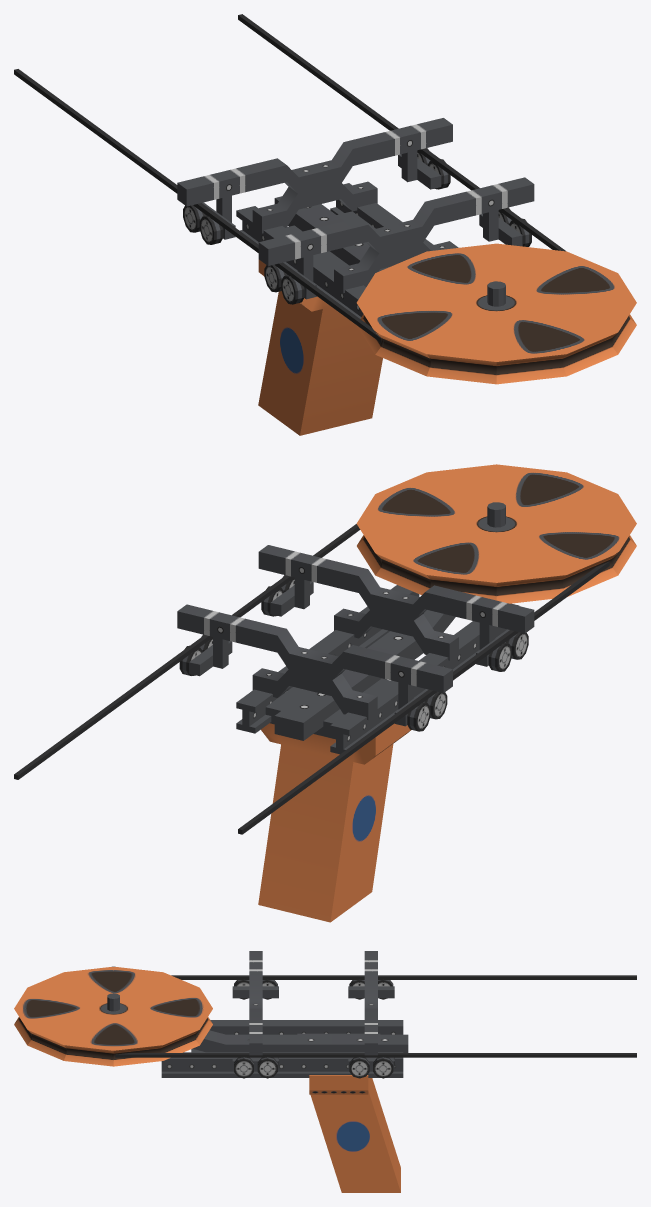
The model's file is 2b008067-feab-4baf-ab91-af9fad7e5dec.glb.
The picture shows the model from 3 angles, top to bottom: view 1: azimuth 30°, elevation 25°; view 2: azimuth 150°, elevation 25°; view 3: azimuth 270°, elevation 25°; orthographic projection. The views are drawn at different scales.
Visible parts, largest first — view 1: base, Roller4, Cable1, Cable; view 2: base, Roller4, Cable1, Cable; view 3: base, Roller4, Cable, Cable1, Roller3, Roller2, Roller, Roller1.
Boxes of the visible parts, box(x1,y1,x2,y2) form: base: box(177, 118, 534, 435); Roller4: box(356, 243, 636, 384); Cable1: box(14, 69, 383, 344); Cable: box(238, 14, 565, 251); base: box(177, 502, 534, 922); Roller4: box(356, 464, 636, 603); Cable1: box(238, 560, 612, 834); Cable: box(14, 524, 360, 779); base: box(107, 951, 408, 1192); Roller4: box(14, 966, 212, 1066); Cable: box(111, 1053, 636, 1057); Cable1: box(171, 975, 636, 979); Roller3: box(373, 1057, 393, 1078); Roller2: box(349, 1057, 369, 1078); Roller: box(257, 1057, 277, 1078); Roller1: box(234, 1057, 253, 1078).
Size of the model in its own units: 368 by 343 by 1051.
Materials: 1 (1 with a texture image).
